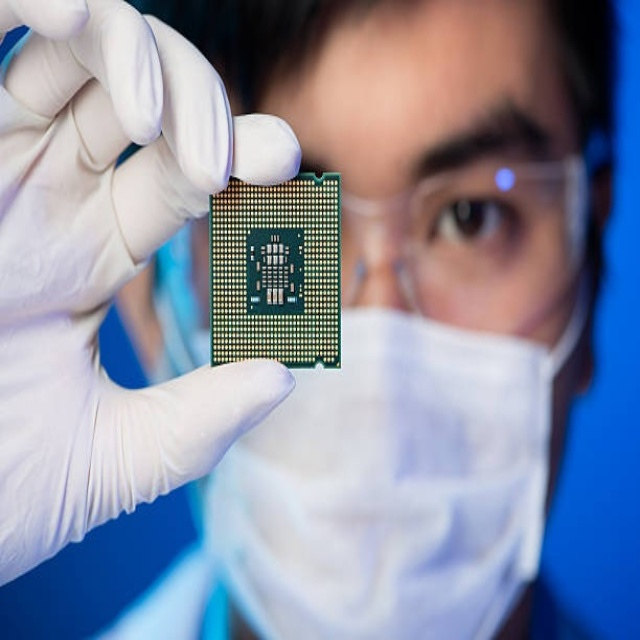Gafas: (329, 150, 592, 323)
Guantes: (3, 5, 304, 580)
Mascara: (195, 290, 557, 632)
